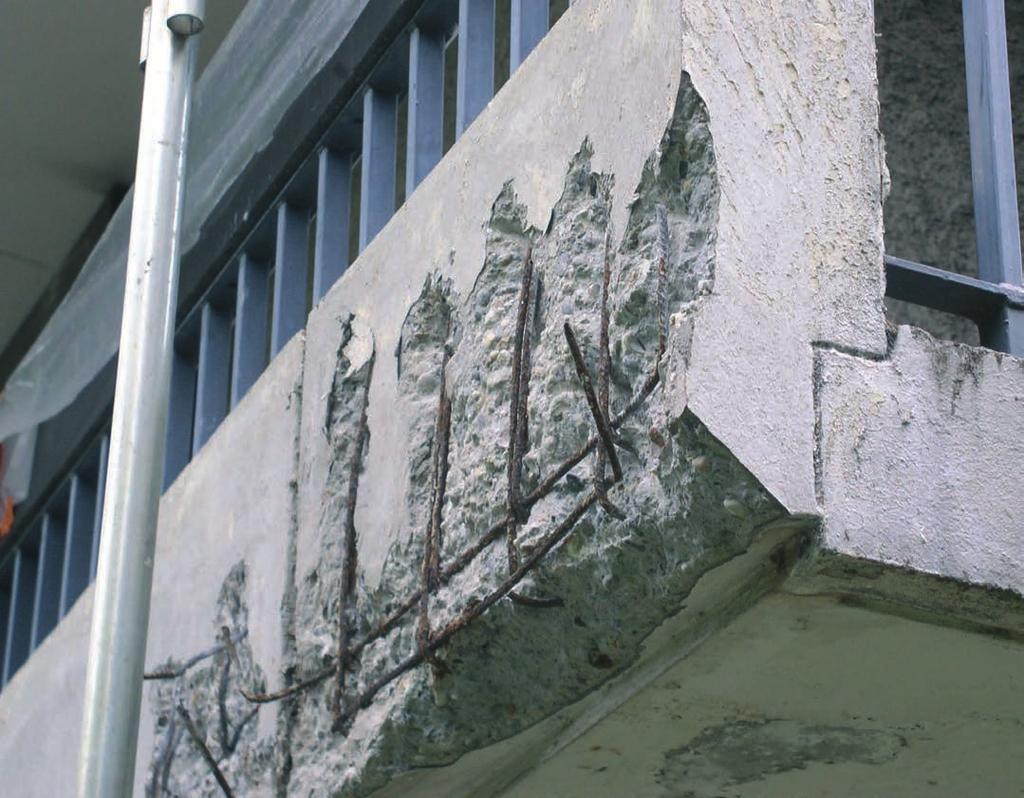exposed_rebar: (350, 240, 658, 711), (244, 318, 374, 727), (176, 702, 234, 797), (218, 626, 258, 757)
spalling: (145, 69, 796, 798)
